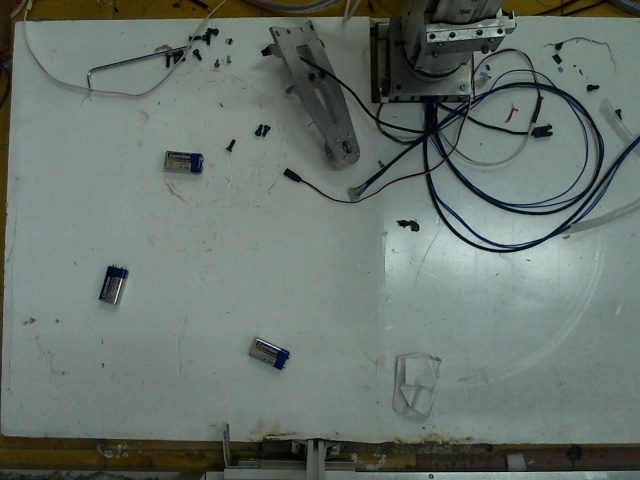battery: (246, 333, 290, 367), (98, 264, 129, 307), (161, 140, 202, 172)
